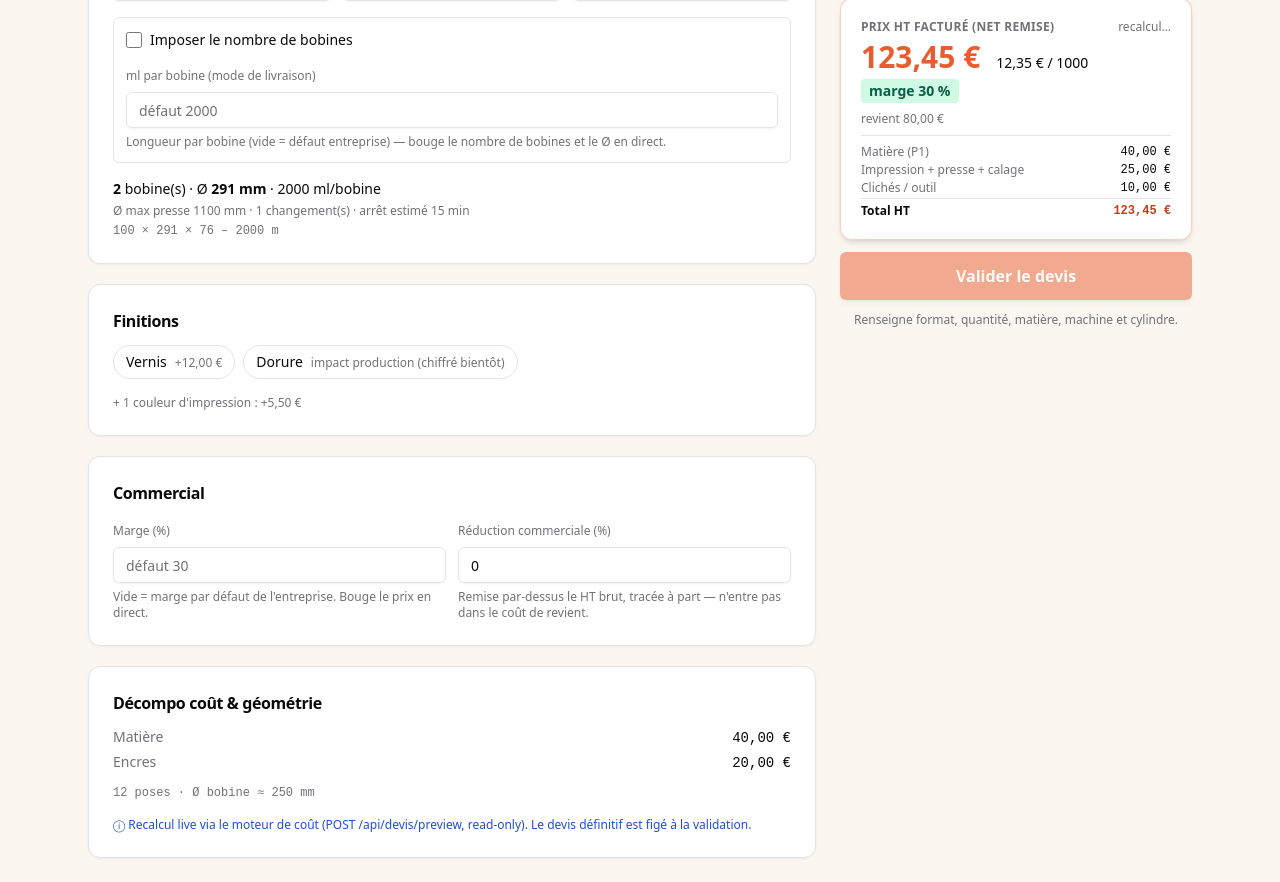
DevisPageUnique — page devis réactive › V0 : panneau (HT net + décompo groupée + total) + barre mobile + remise live
The width and height of the screenshot is (1280, 882).
(page scrolled)
Expected: the text with test id "hero-prix-valeur" is shown, [861,39,980,75]
Expected: the text with test id "hero-prix-valeur" shows "123,45", [861,36,955,77]
# Saisir une remise → ligne remise (HT brut + −€) + HT net recalculé.
Replace the text in the number field with test id "c-remise" with "10" at (624, 565), box [458,547,791,583]
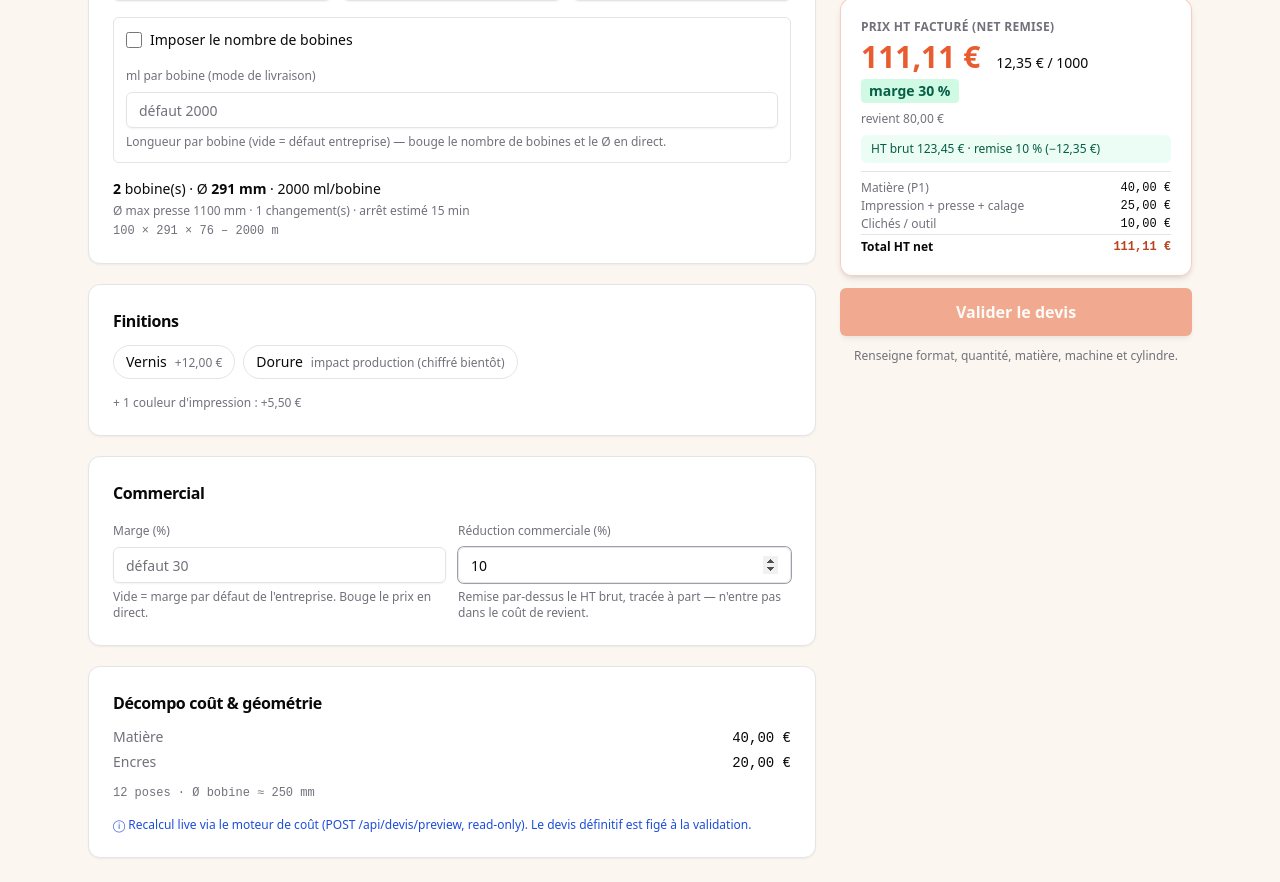
Expected: the text with test id "hero-prix-valeur" does not show "123,45", [861,39,980,75]
Result: the text "HT brut 123,45 € · remise 10 % (−12,35 €)" is shown at [861,135,1171,163]
Result: the text with test id "hero-remise" shows "remise" at [954,140,1012,157]
